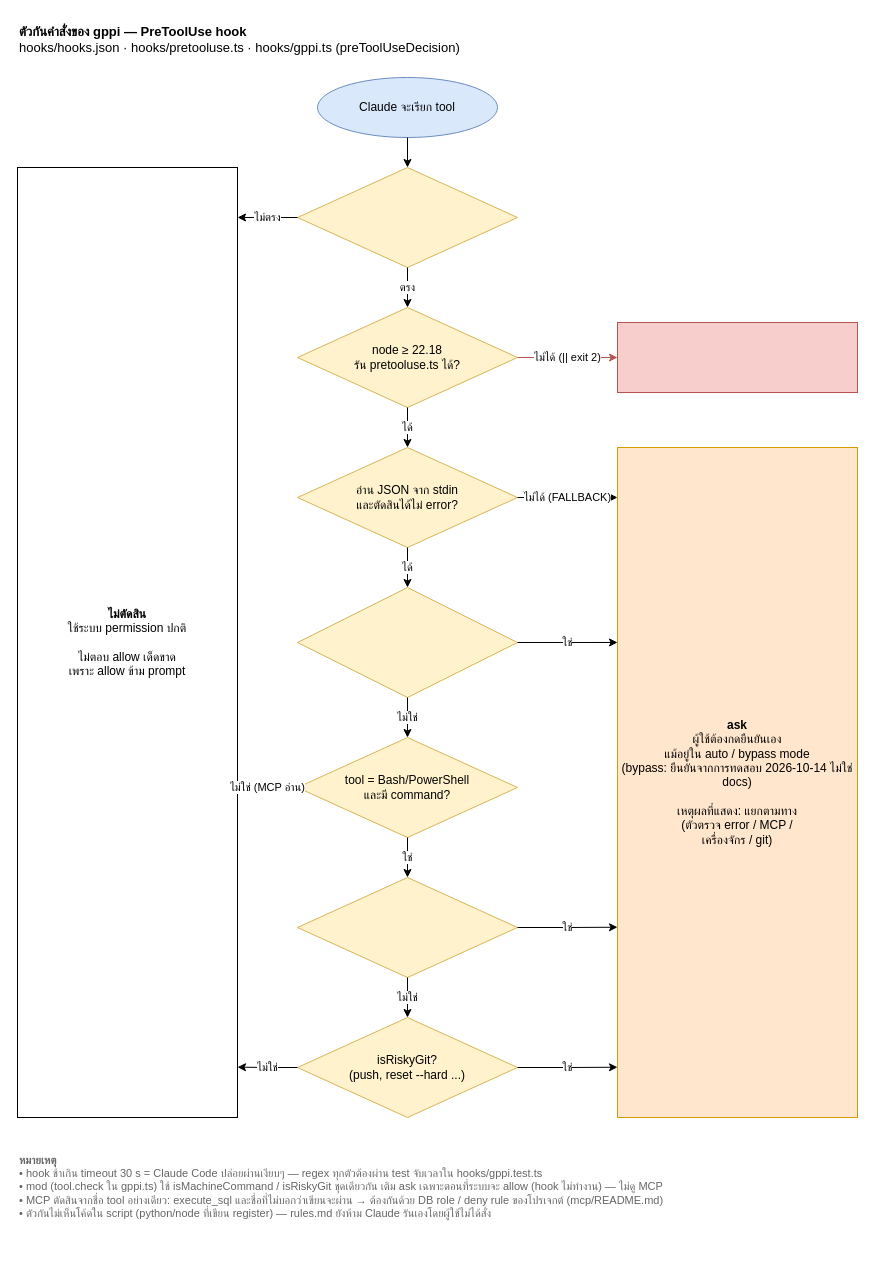
Some shapes in this 895 by 1274 pixel diagram are drawn without their labels. Each missing label, with the centre of its shape:
exit 2 — บล็อก tool พร้อมข้อความให้ติดตั้ง node: (737,357)
isMachineCommand? (Modbus, ros2 pub, deploy, เปิด /dev/ttyUSB*, pm2 ...): (407,927)
isMcpWriteTool? คำแรกไม่ใช่คำอ่าน และมีคำเขียน (write, call...): (407,642)
ชื่อ tool ตรง matcher? Bash|PowerShell หรือ mcp__.*: (407,217)
